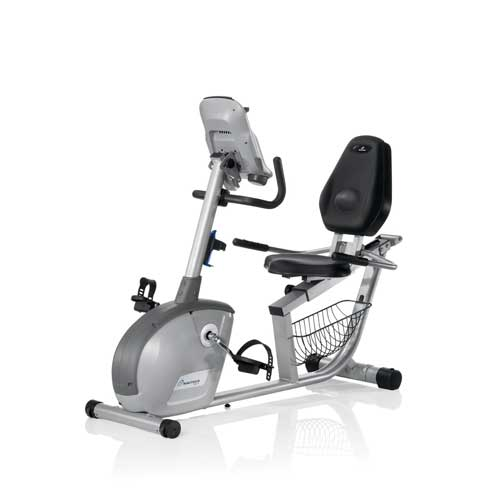gym_bike: (78, 79, 410, 444)
